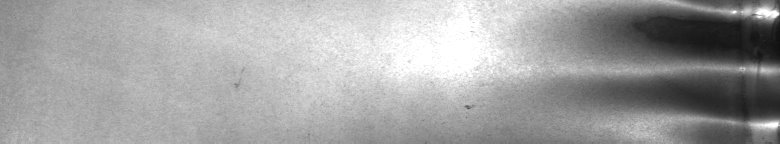ke: (608, 4, 776, 136)
